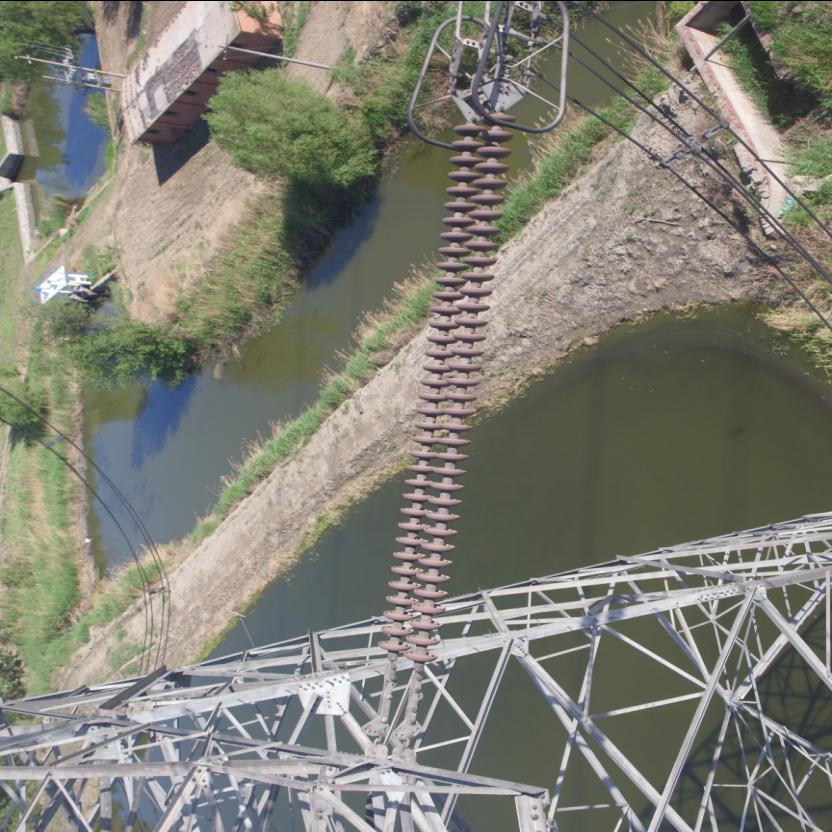insulator: (374, 95, 514, 694)
